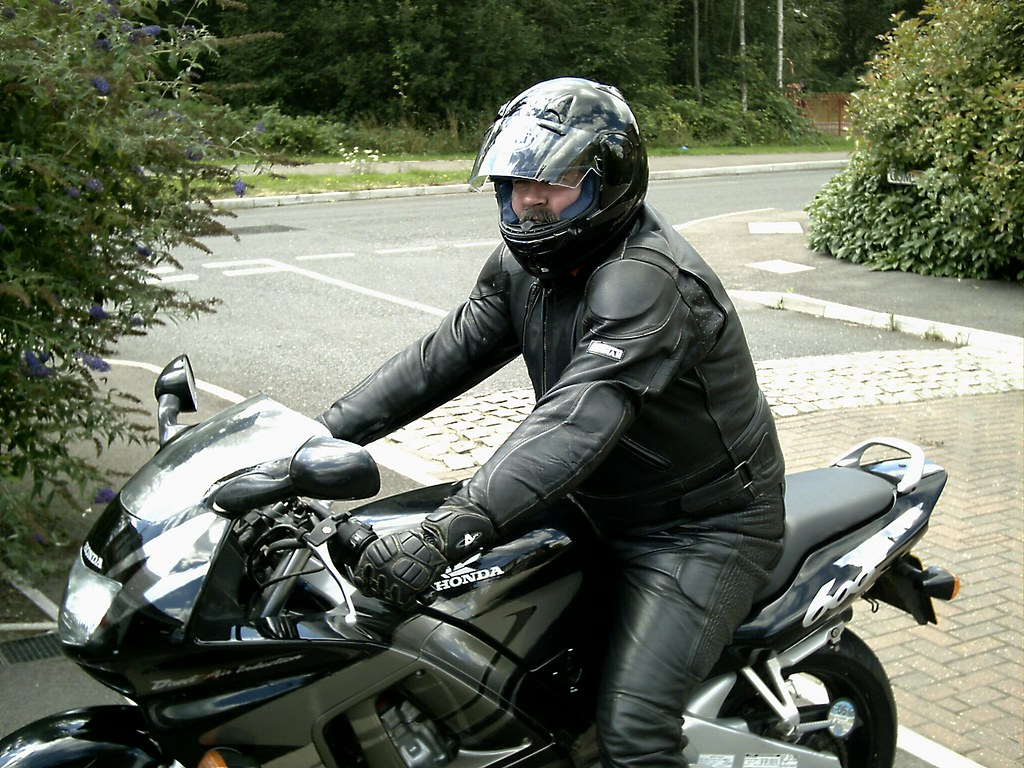helmet: (479, 85, 652, 257)
